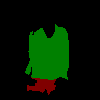maglia: (24, 24, 68, 80)
shorts: (27, 75, 57, 94)
